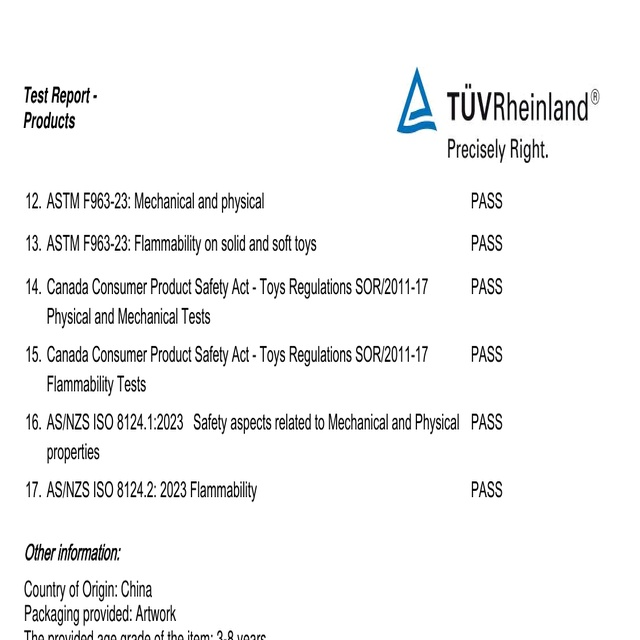tuv_rheinland: (392, 68, 601, 138)
